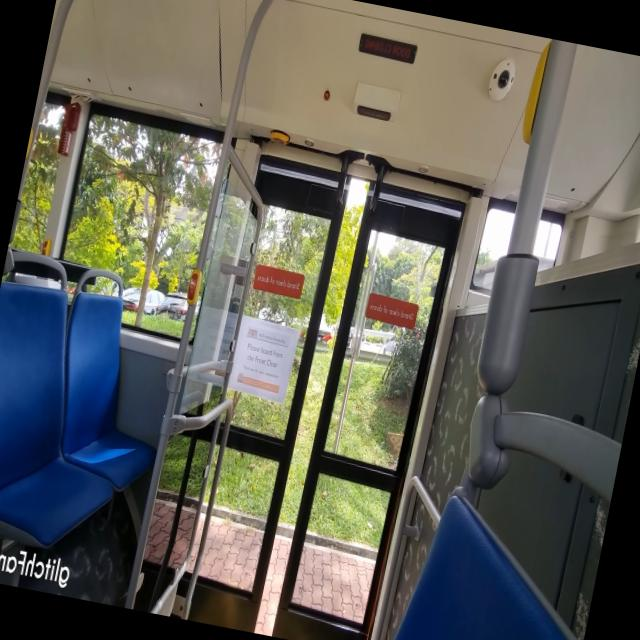bus-door: (273, 184, 464, 640), (191, 155, 349, 630)
